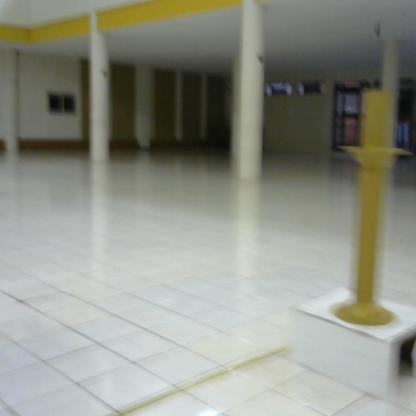pole: (330, 82, 416, 329)
